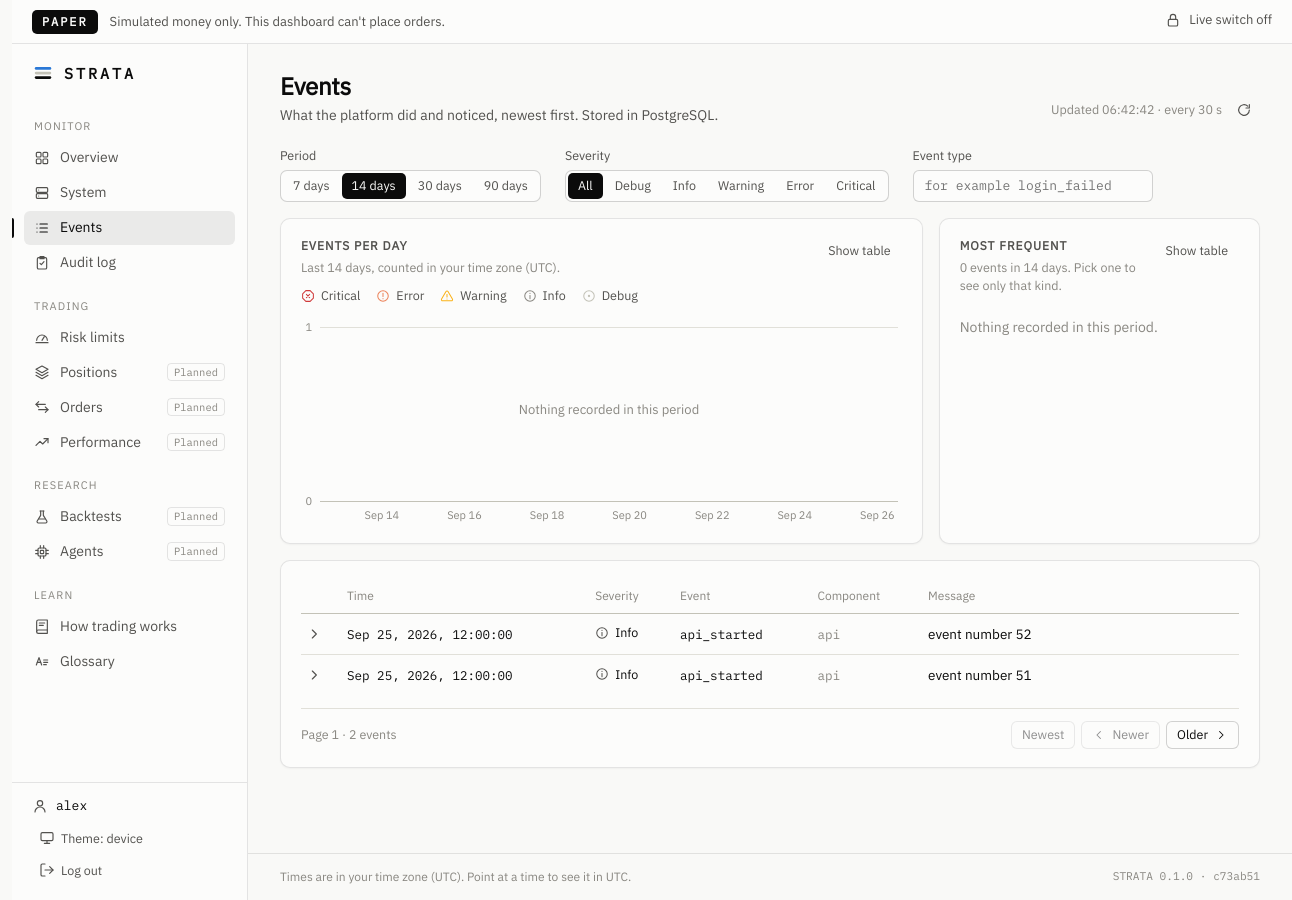
Test: the events page › filters by severity and pages through older events
The width and height of the screenshot is (1292, 900).
Expected: the text "event number 52" is shown, [918,614,1239,655]
Step 1. Click the button "Warning" → (741, 186), box [708,172,774,198]
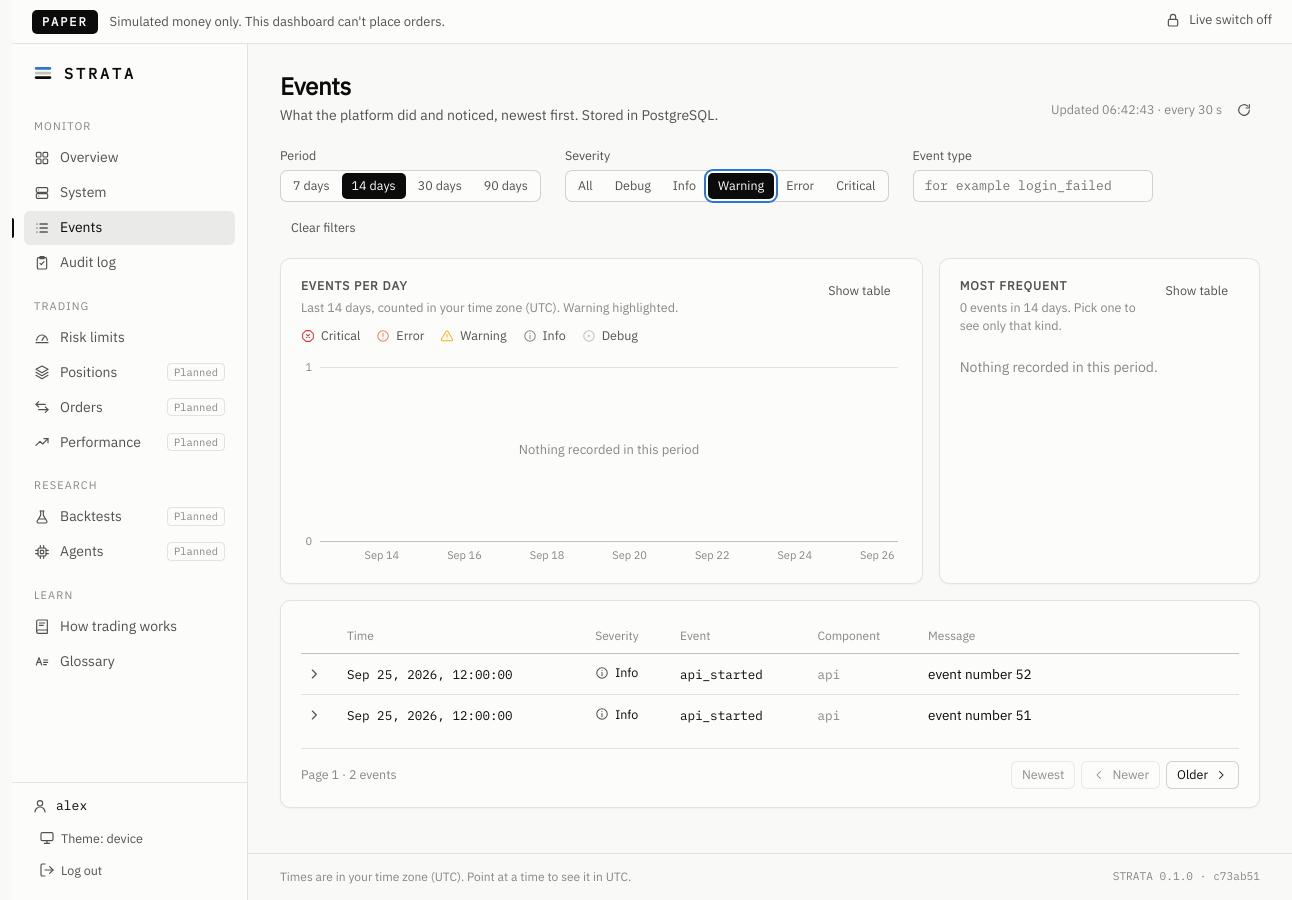
Step 2. Click the button "Older" → (1202, 774), box [1166,760,1239,788]
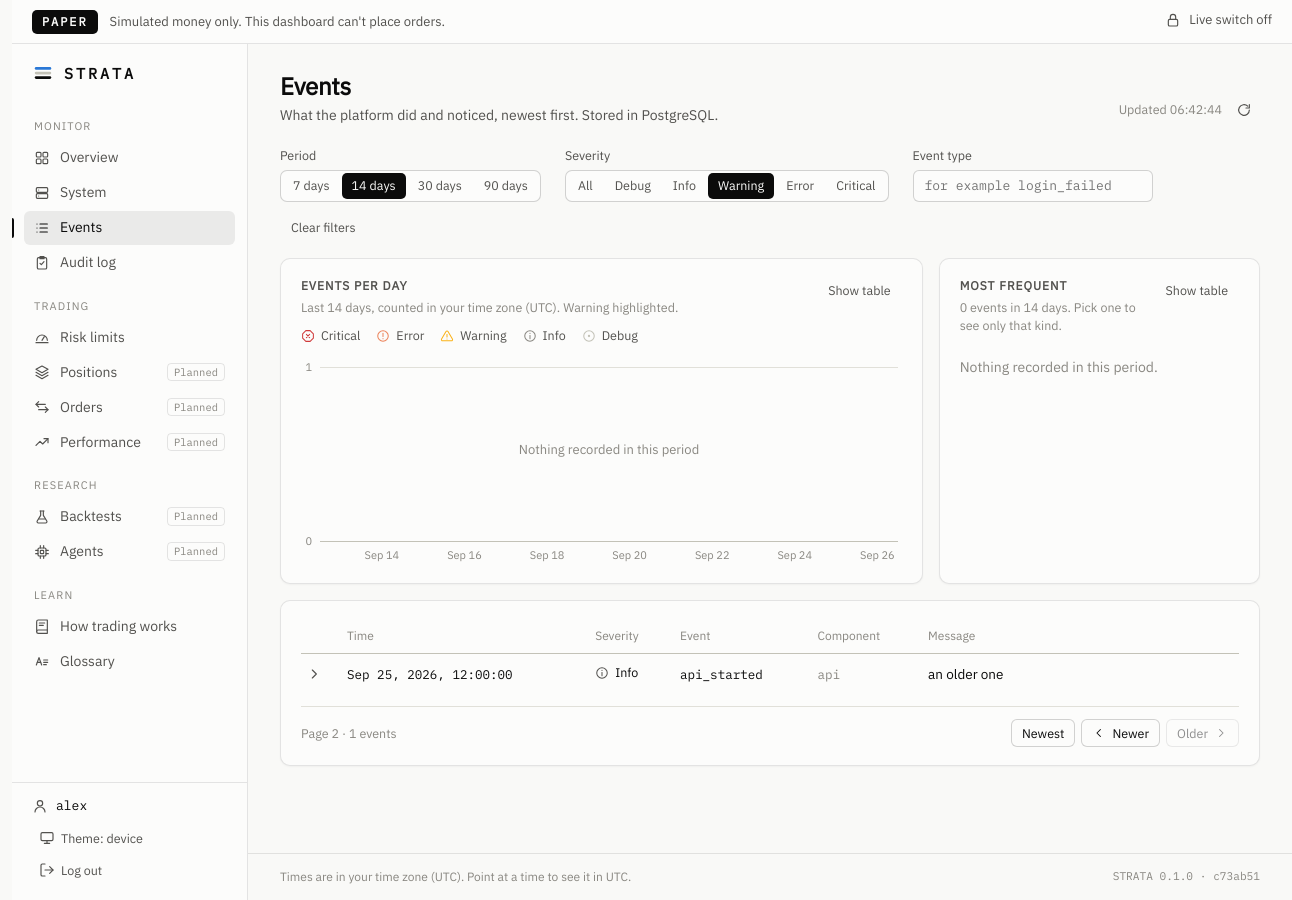
Now the text "an older one" is shown, box [918,654,1239,694]
Step 3. Click the button "Newer" → (1121, 733), box [1081,719,1160,747]
(page scrolled)
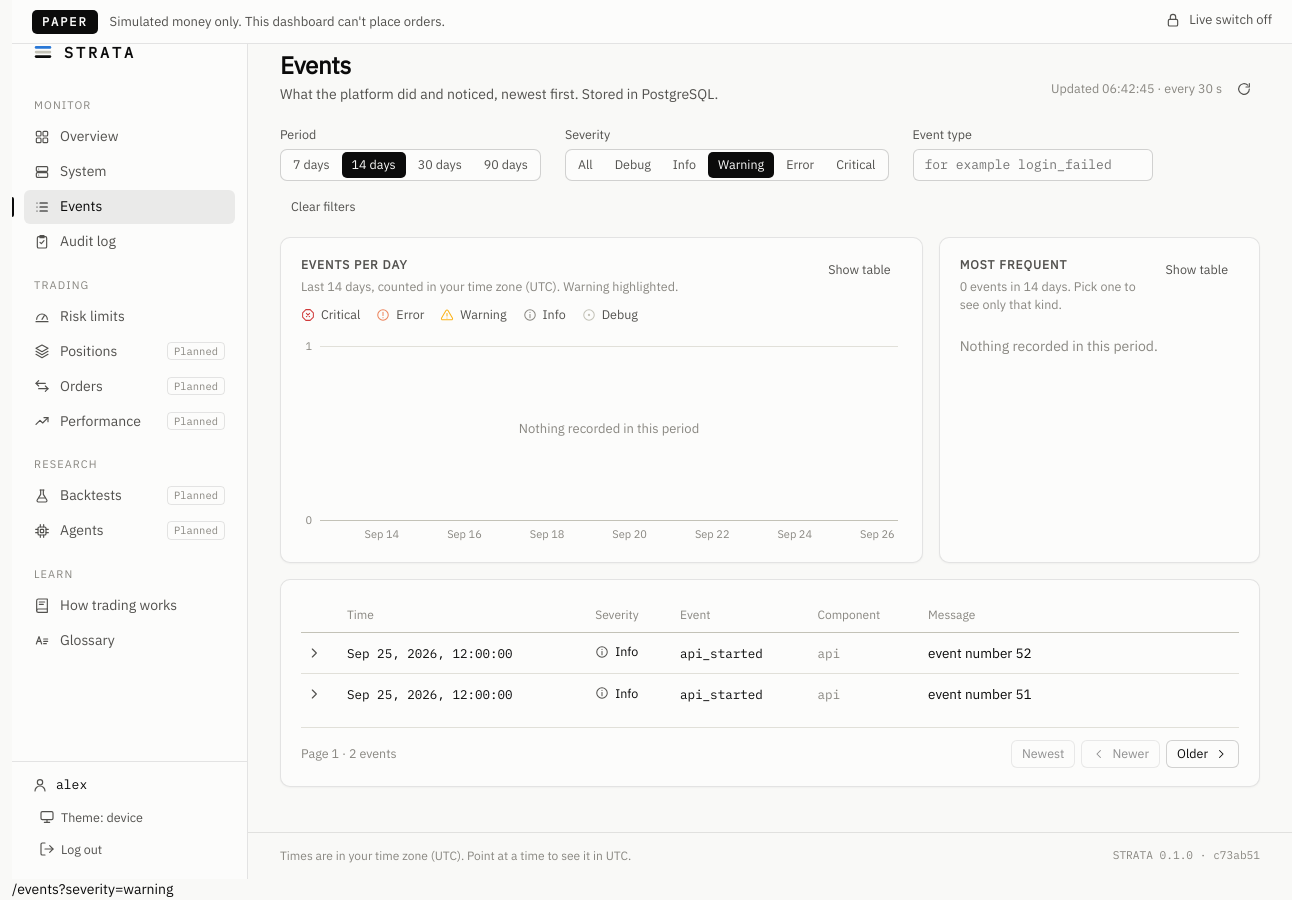
Now the text "event number 52" is shown, box [918,633,1239,674]
Now the text with test id "where" reads "/events?severity=warning", box [12,880,173,898]
